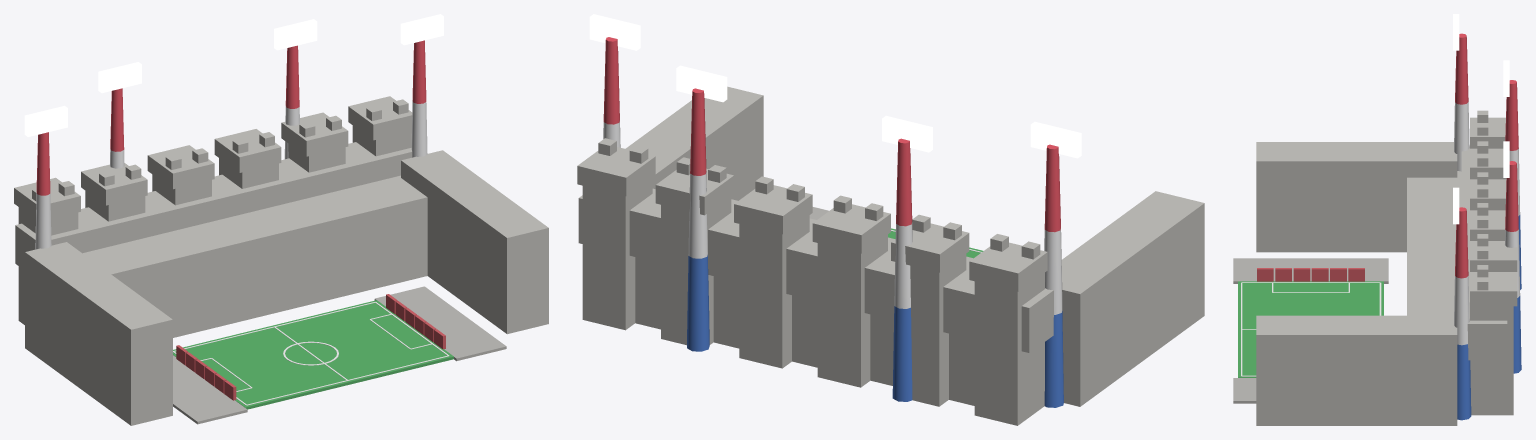
File: SM_Stage_Defensores_PY.glb
3 views of the same model, side by side, from view 1: azimuth 30°, elevation 25°; view 2: azimuth 150°, elevation 25°; view 3: azimuth 270°, elevation 25° (orthographic). The views are drawn at different scales.
Visible parts, largest first — view 1: SM_Stage_Defensores_PY; view 2: SM_Stage_Defensores_PY; view 3: SM_Stage_Defensores_PY.
Boxes of the visible parts, x1,y1,x2,y2 form: SM_Stage_Defensores_PY: (14,14,548,425); SM_Stage_Defensores_PY: (577,14,1204,425); SM_Stage_Defensores_PY: (1233,14,1521,425).
Bounding box in the file's own units: 50 × 26.83 × 31.55.
